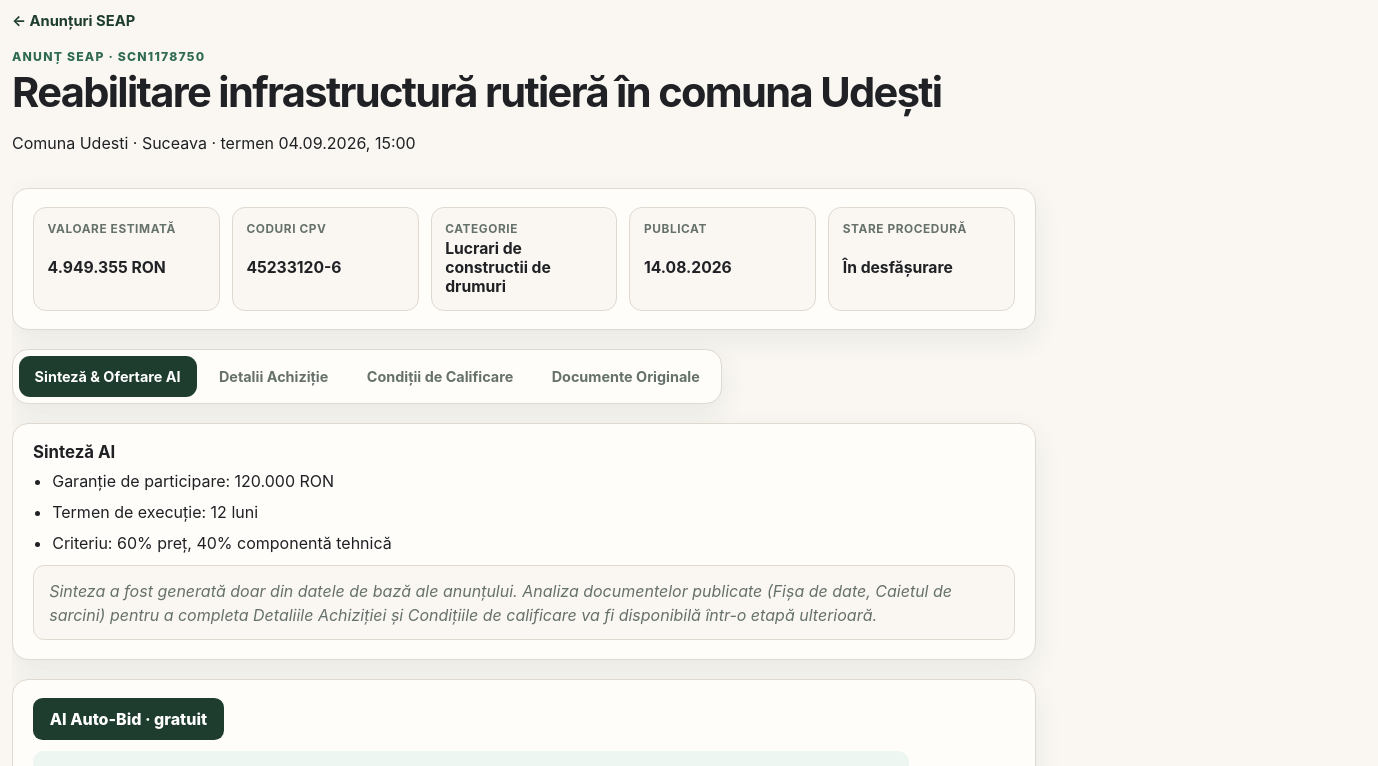
SeapTenderDetailComponent › switches to the Istoric tab automatically when the generation completes
Click the button "AI Auto-Bid · gratuit" at (128, 719), box 33,698 -> 224,740
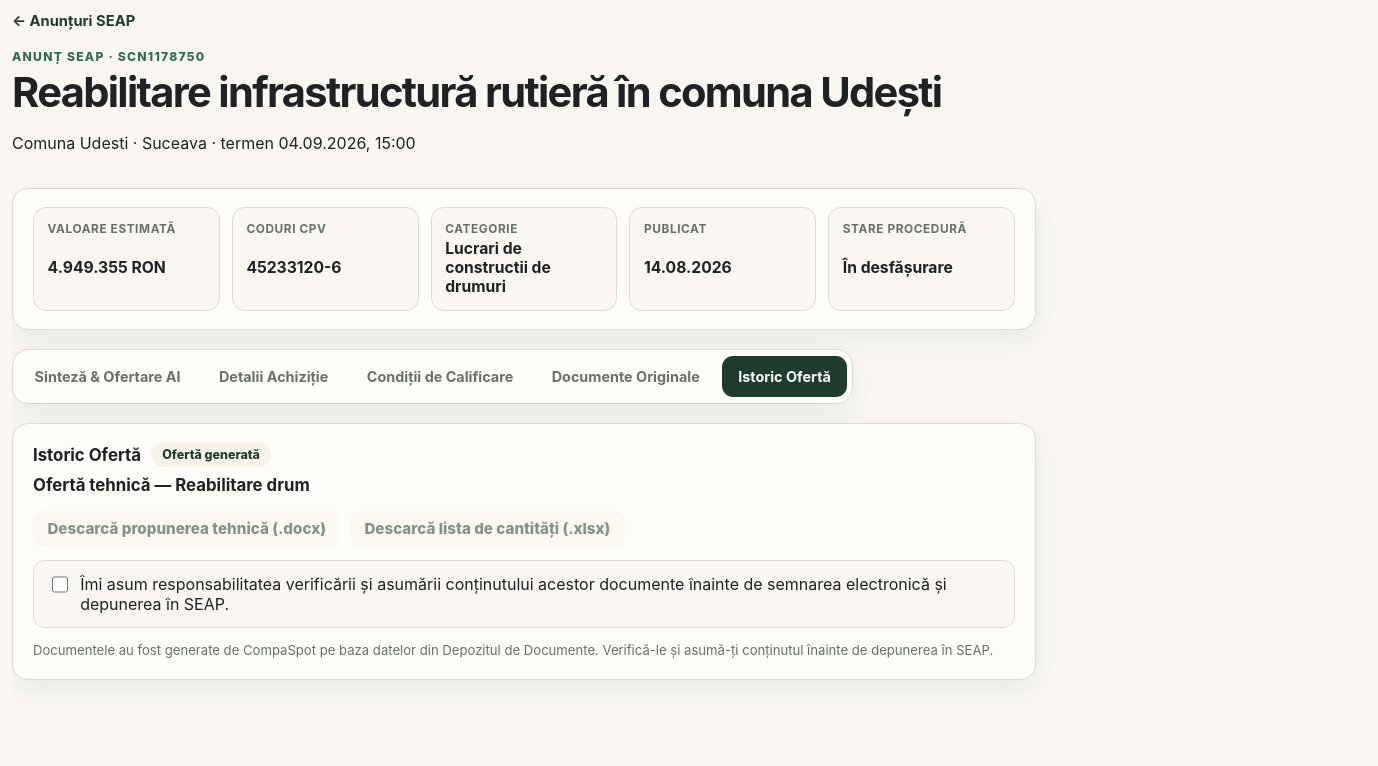
Check: the text "Istoric Ofertă" is shown, box 722,356 -> 847,397
Check: the text "Descarcă propunerea tehnică (.docx)" is shown, box 33,511 -> 340,547
Check: the text "Ofertă tehnică — Reabilitare drum" is shown, box 33,476 -> 310,496
